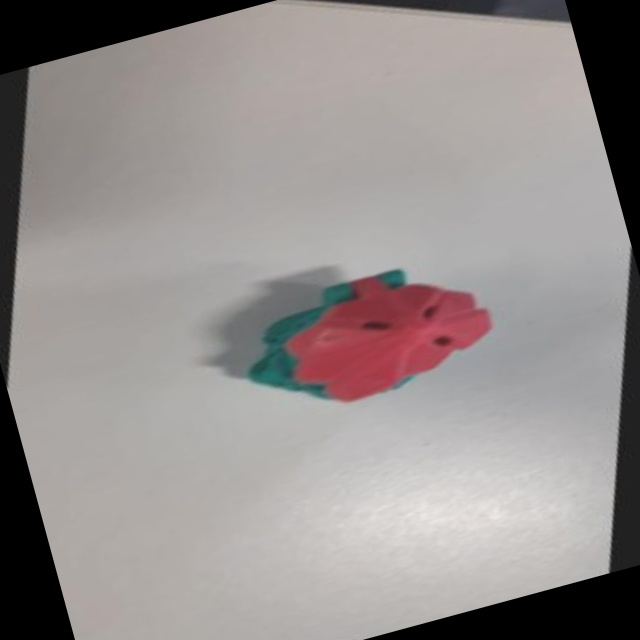House: (198, 228, 534, 445)
